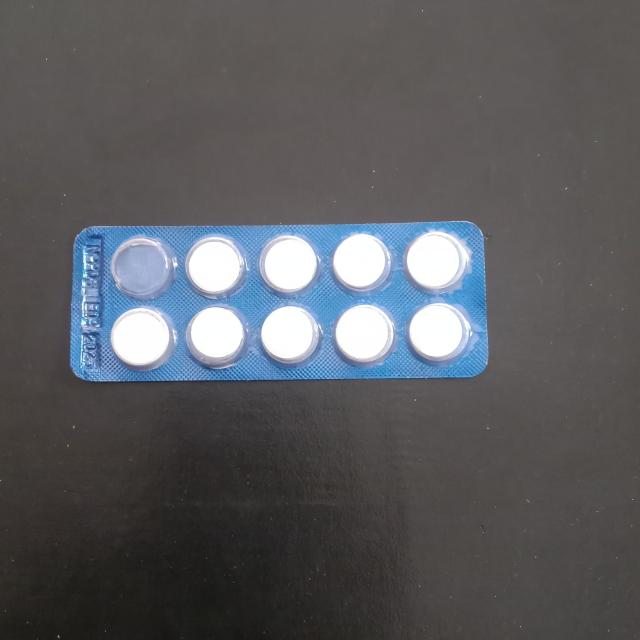defect: (108, 236, 180, 302)
